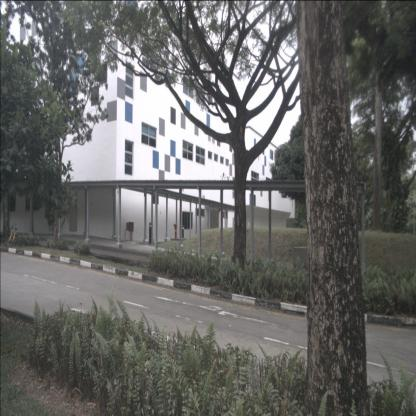vehicle-bicycle: (4, 223, 20, 248)
